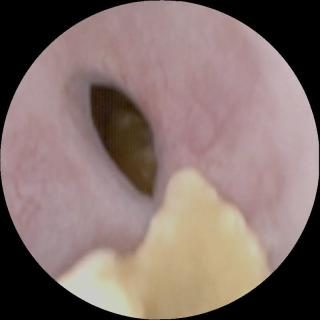stone: (58, 168, 271, 315)
tissue: (5, 8, 311, 268)
